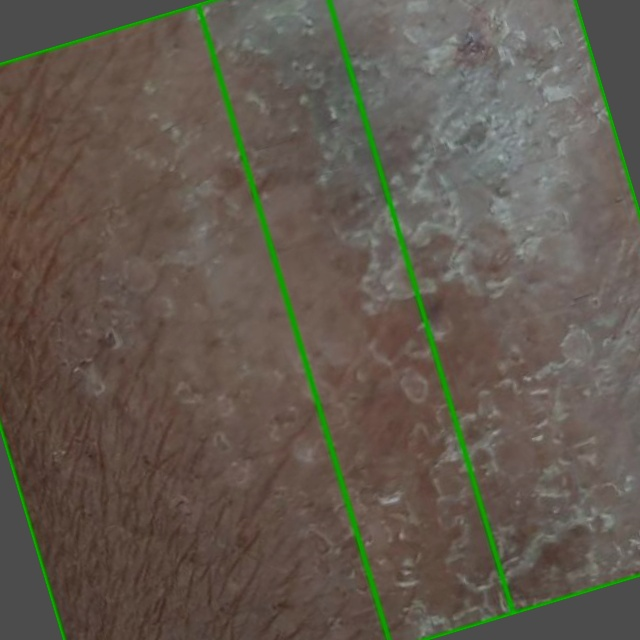Eczema: (0, 0, 513, 639), (198, 0, 639, 639)
